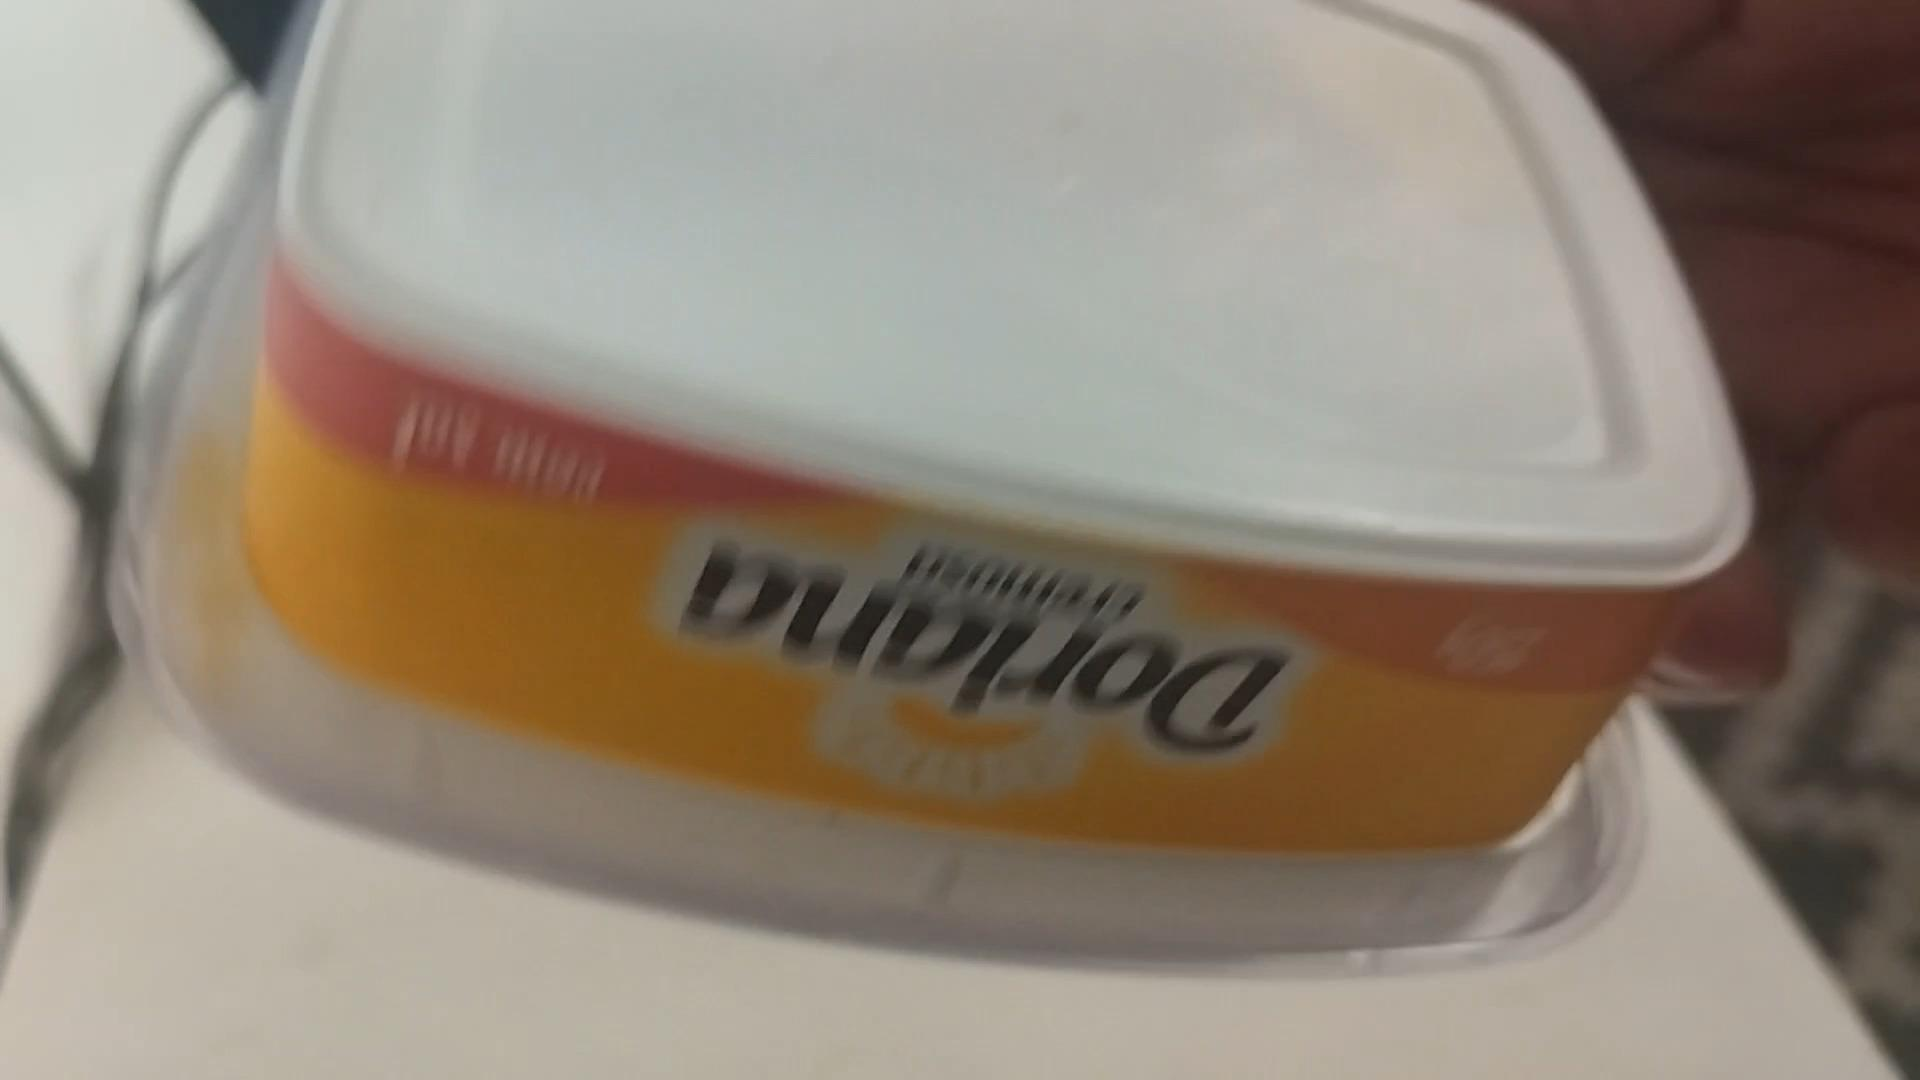butter: (117, 5, 1758, 997)
